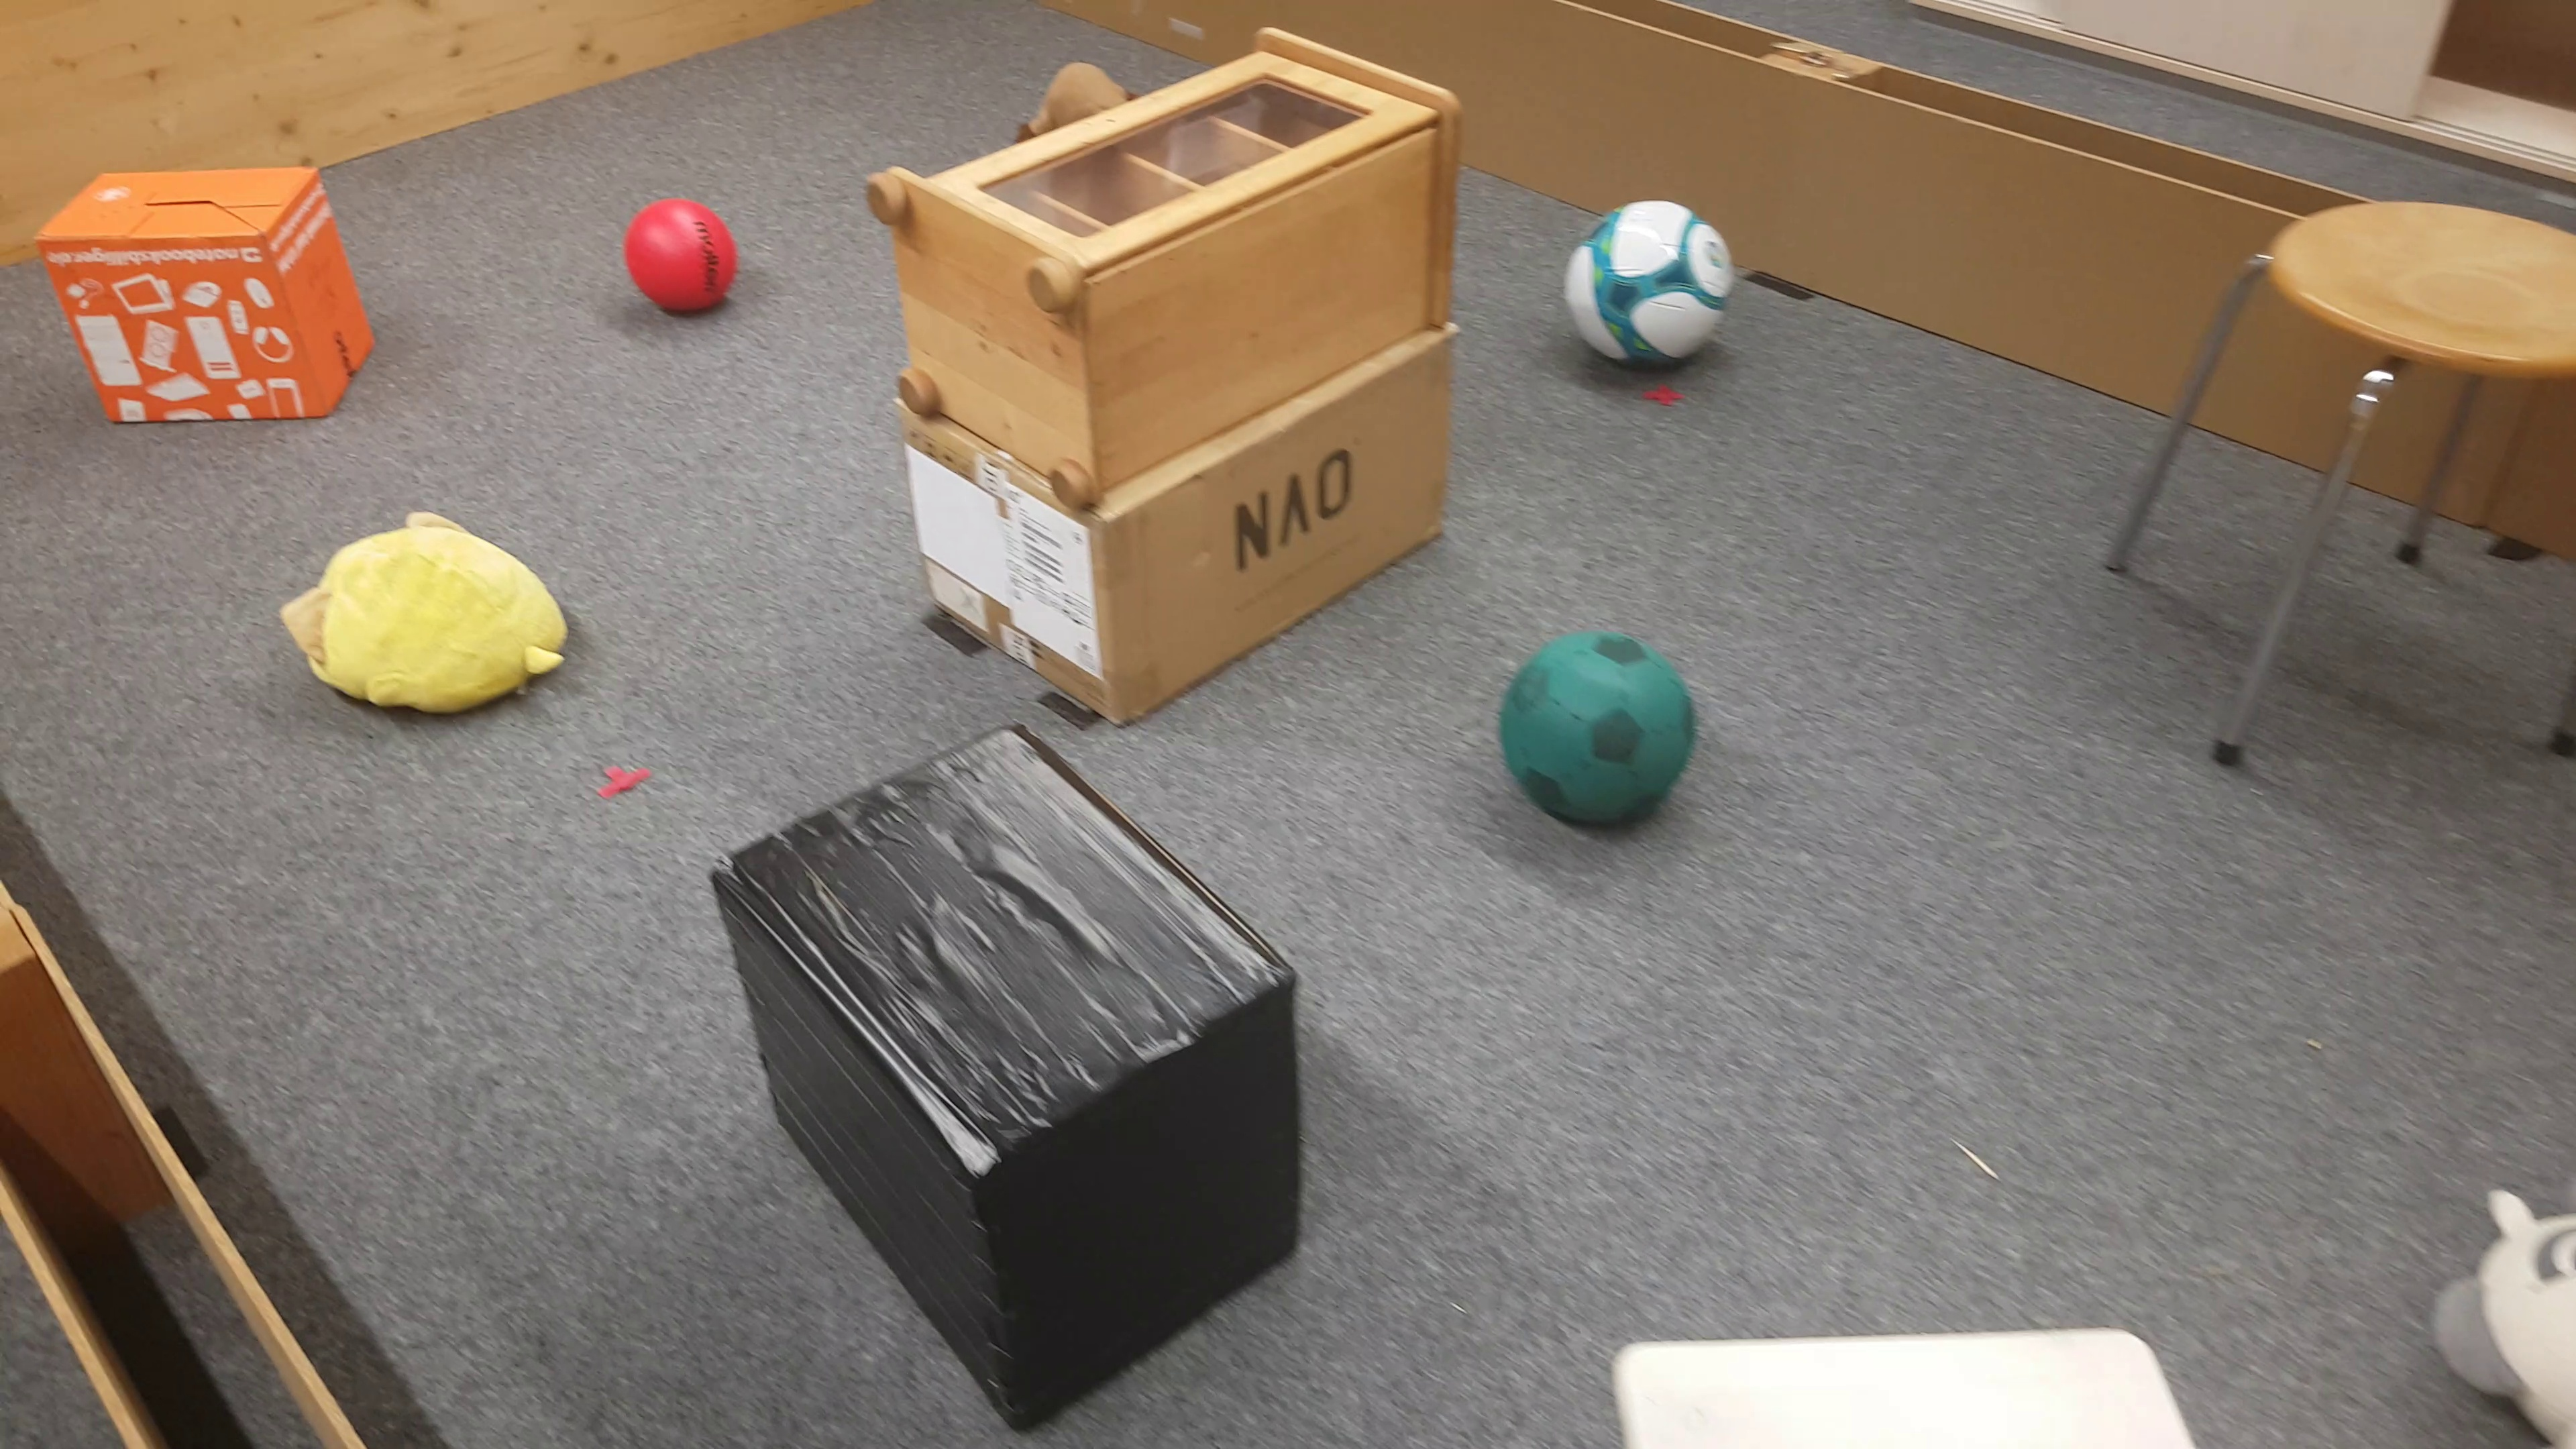grasp: (265, 508, 573, 718), (2438, 1178, 2558, 1449)
kick: (1502, 633, 1690, 830), (1564, 196, 1736, 377), (628, 202, 741, 327)
push: (717, 720, 1307, 1430), (42, 168, 386, 425)
